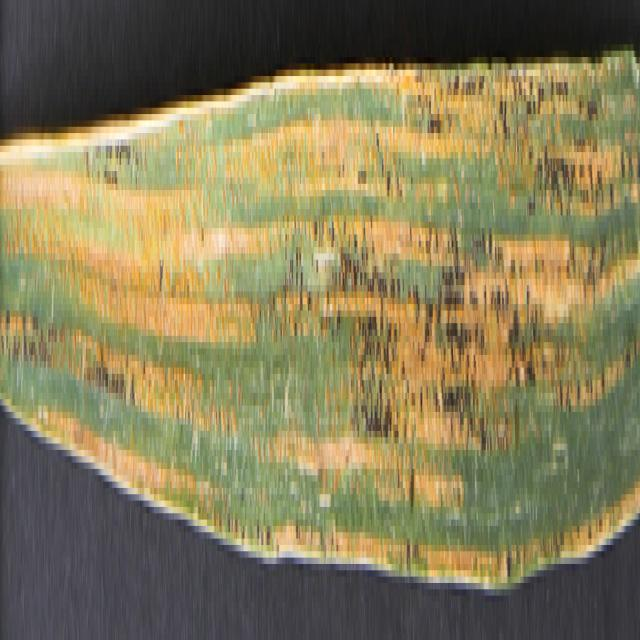leaf rust: (1, 7, 639, 590)
